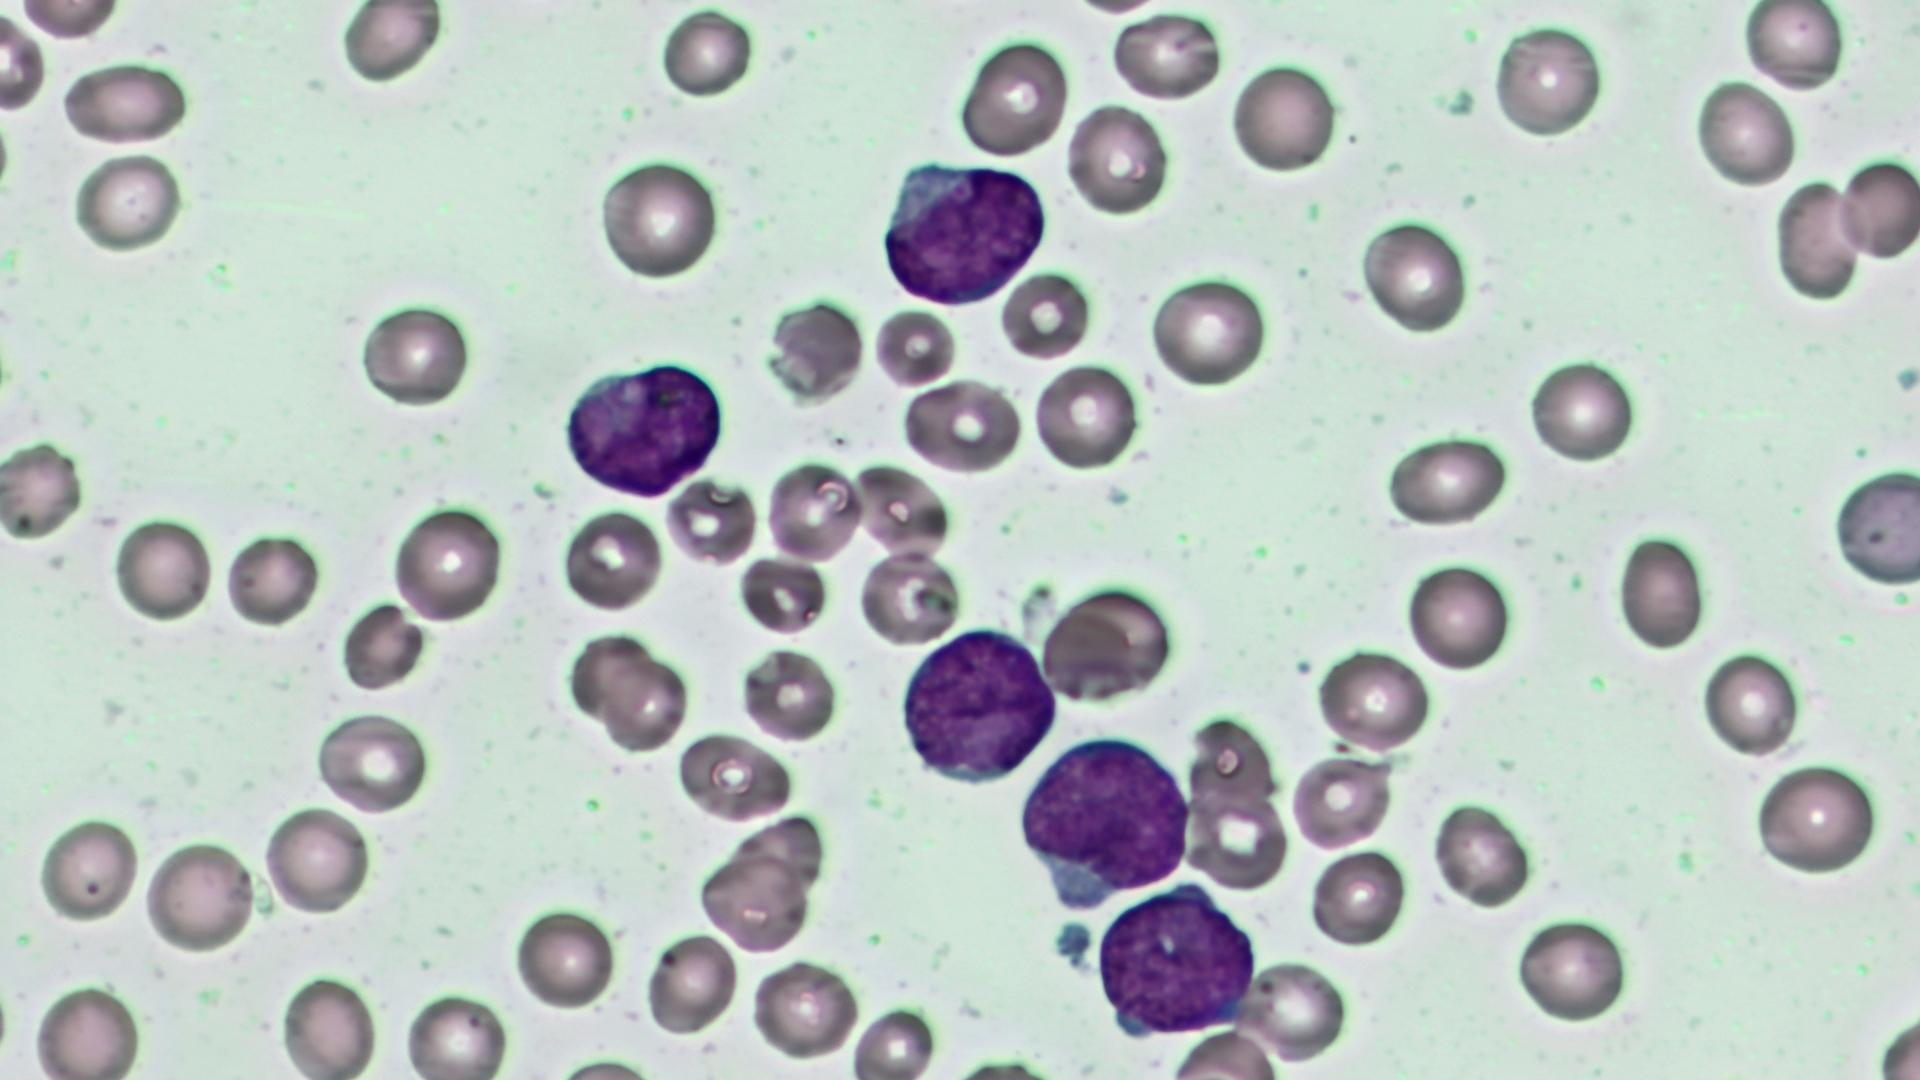Platelets: (1052, 916, 1095, 964), (1324, 735, 1346, 754)
RBC: (593, 154, 721, 284), (1750, 757, 1882, 881), (1044, 582, 1174, 702), (386, 500, 506, 628), (1149, 268, 1270, 392), (1490, 18, 1610, 144), (956, 32, 1071, 161), (1357, 214, 1472, 338), (355, 295, 473, 414), (142, 835, 258, 955), (67, 146, 189, 261), (260, 799, 375, 920), (1225, 58, 1338, 181), (1513, 914, 1630, 1029), (1313, 644, 1432, 756), (1402, 556, 1514, 675), (1689, 73, 1800, 193), (1064, 98, 1174, 219), (1526, 353, 1640, 467), (313, 708, 431, 818), (898, 375, 1025, 476), (55, 54, 193, 148), (1382, 429, 1510, 529), (1236, 956, 1352, 1065), (34, 811, 141, 928), (509, 902, 618, 1015), (1030, 359, 1138, 472), (109, 510, 215, 626), (746, 956, 858, 1064), (1700, 645, 1804, 760), (1830, 459, 1920, 592), (696, 851, 812, 953), (1615, 530, 1712, 654), (1429, 796, 1535, 909), (1772, 175, 1862, 307), (558, 502, 661, 615), (1106, 8, 1224, 105), (26, 980, 145, 1076), (1184, 785, 1291, 890), (678, 731, 796, 825), (276, 971, 380, 1077), (642, 927, 740, 1040), (1305, 845, 1408, 949), (765, 455, 864, 563), (334, 1, 450, 92), (851, 460, 953, 562), (767, 291, 868, 396), (1288, 752, 1394, 851), (856, 547, 963, 645), (222, 527, 320, 632), (1737, 3, 1847, 95), (737, 642, 837, 742), (653, 5, 756, 103), (400, 988, 510, 1076), (599, 647, 688, 753), (3, 435, 86, 545), (1836, 154, 1917, 264), (662, 473, 760, 564), (996, 268, 1093, 359), (559, 630, 651, 724), (336, 596, 425, 691), (733, 553, 831, 636), (848, 1000, 940, 1077), (0, 1, 46, 127), (11, 0, 128, 42)
WBC: (1018, 729, 1195, 915), (895, 622, 1063, 789), (874, 154, 1054, 309), (1096, 881, 1265, 1039), (558, 355, 732, 506)
